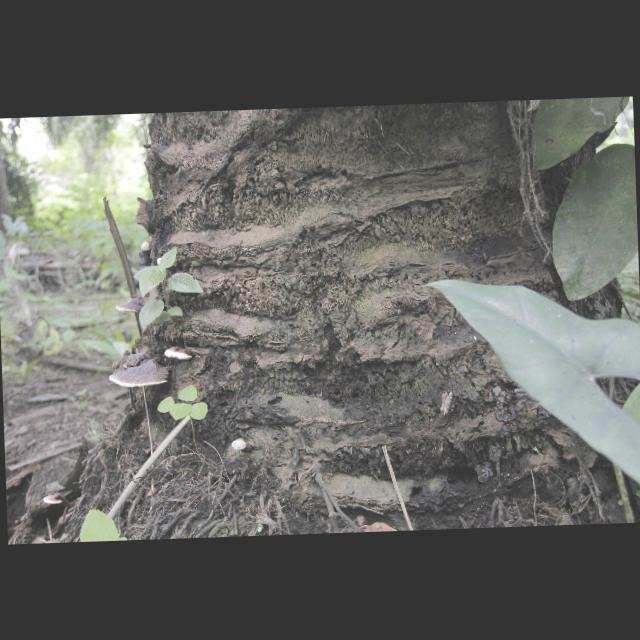ganoderma: (109, 360, 171, 389), (124, 351, 160, 370), (115, 296, 145, 313), (166, 347, 193, 362), (43, 494, 65, 506)
primordium: (232, 438, 248, 452), (142, 241, 152, 252), (158, 259, 163, 267)
